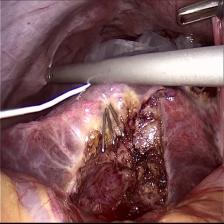Grasper: (176, 3, 224, 28)
Irrigator: (40, 60, 71, 92)
Specimen Bag: (83, 32, 202, 65)
